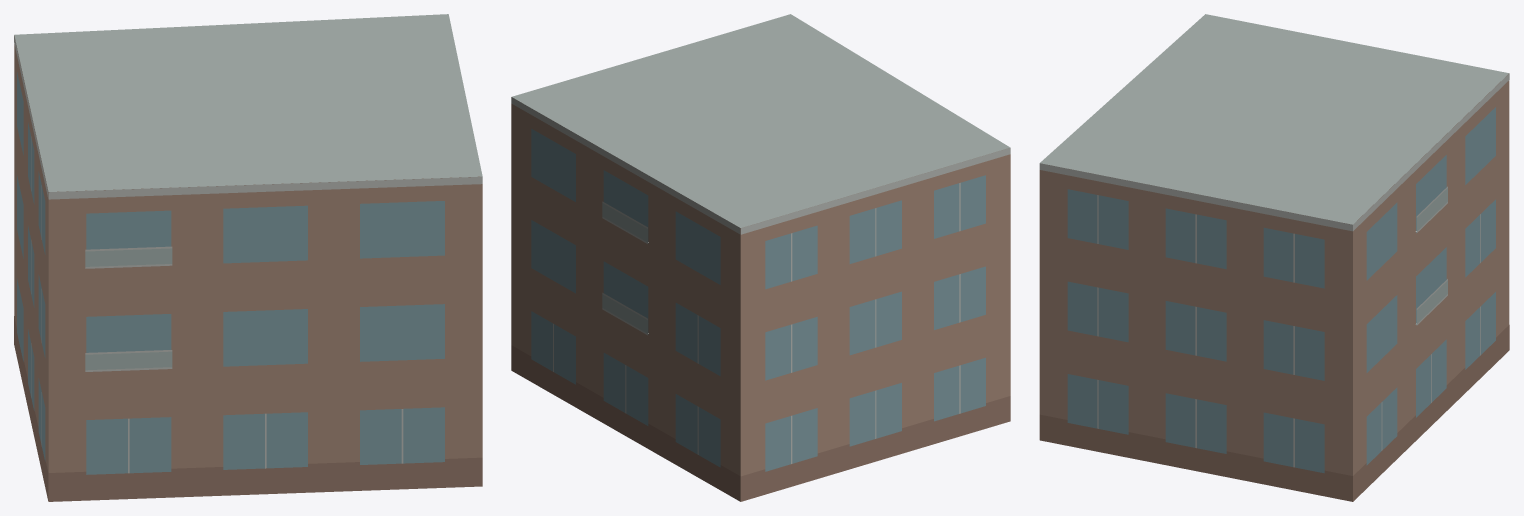
Rendered from survey-upis-32976520.glb.
3 views of the same model, side by side, from view 1: azimuth 30°, elevation 25°; view 2: azimuth 150°, elevation 25°; view 3: azimuth 270°, elevation 25° (orthographic). The views are drawn at different scales.
Parts seen in each view (by area): view 1: survey-upis-32976520.tmp; view 2: survey-upis-32976520.tmp; view 3: survey-upis-32976520.tmp.
Part boxes in pixels (x1=…): survey-upis-32976520.tmp: x1=14, y1=14, x2=482, y2=501; survey-upis-32976520.tmp: x1=511, y1=14, x2=1010, y2=501; survey-upis-32976520.tmp: x1=1039, y1=14, x2=1509, y2=501.
Bounding box in the file's own units: 16.47 × 10.1 × 15.52.
